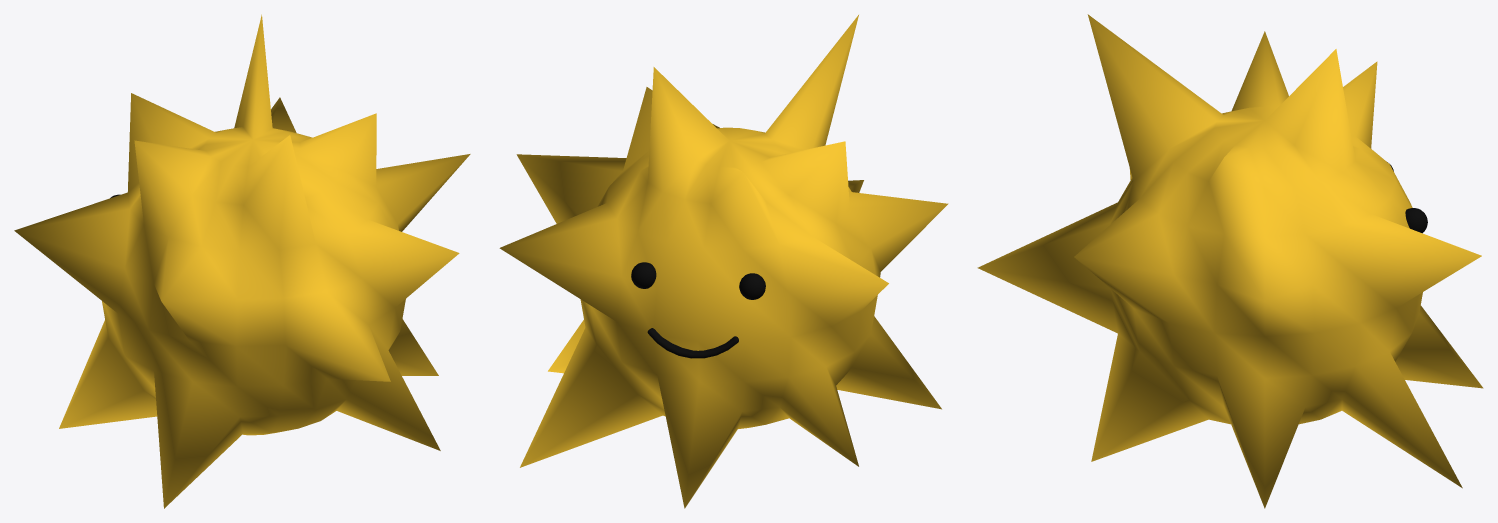
The model's file is monster3.FBX.
3 views of the same model, side by side, from view 1: azimuth 30°, elevation 25°; view 2: azimuth 150°, elevation 25°; view 3: azimuth 270°, elevation 25° (orthographic). The views are drawn at different scales.
Visible parts, largest first — view 1: Sphere001; view 2: Sphere001, ChamferBox001, Sphere003, Sphere002; view 3: Sphere001.
Part boxes in pixels (left/top/right/bottom): Sphere001: left=14, top=14, right=470, bottom=508; Sphere001: left=499, top=15, right=948, bottom=508; ChamferBox001: left=647, top=328, right=738, bottom=358; Sphere003: left=739, top=273, right=765, bottom=299; Sphere002: left=631, top=262, right=656, bottom=288; Sphere001: left=977, top=14, right=1483, bottom=508.
Size of the model in its own units: 29.15 by 25.56 by 29.25.
